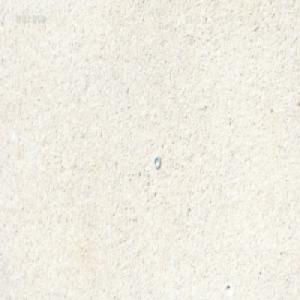Washer: (153, 156, 160, 171)
